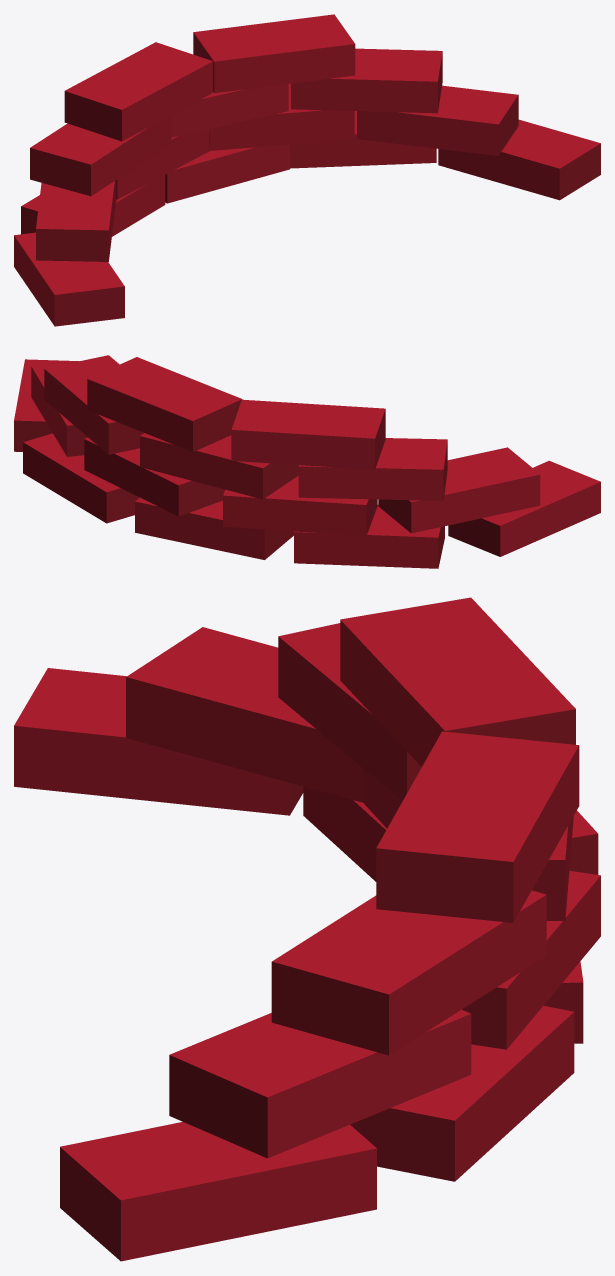
Rendered from sandbags_02.fbx.
3 renders of one model, top to bottom at view 1: azimuth 30°, elevation 25°; view 2: azimuth 150°, elevation 25°; view 3: azimuth 270°, elevation 25°, orthographic. The views are drawn at different scales.
Parts seen in each view (by area): view 1: sandbags_02; view 2: sandbags_02; view 3: sandbags_02.
Part boxes in pixels (x1=…): sandbags_02: x1=14, y1=14, x2=600, y2=326; sandbags_02: x1=14, y1=355, x2=600, y2=568; sandbags_02: x1=14, y1=597, x2=600, y2=1261.
Size of the model in its own units: 259 by 55.32 by 121.
